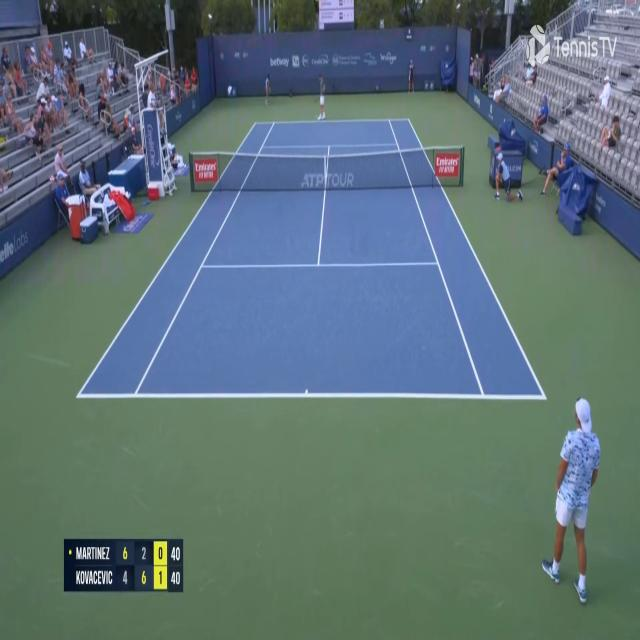tennis-player: (540, 391, 605, 608), (315, 70, 327, 121)
